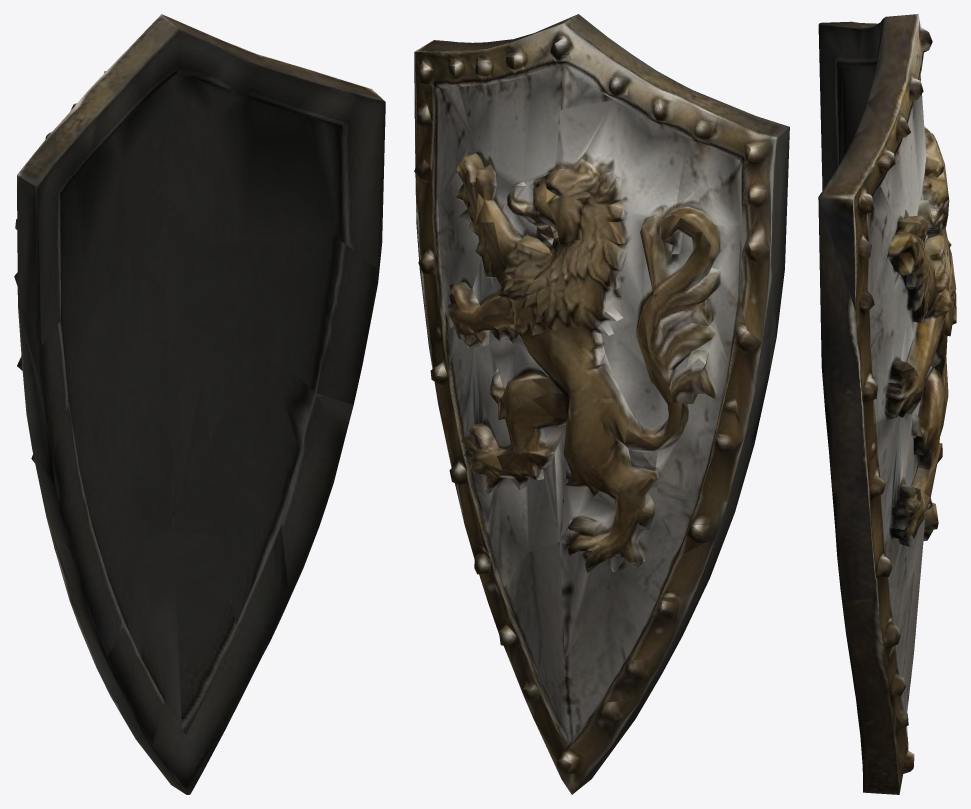
The model's file is kite_gold_lion.glb.
3 views of the same model, side by side, from view 1: azimuth 30°, elevation 25°; view 2: azimuth 150°, elevation 25°; view 3: azimuth 270°, elevation 25° (orthographic). The views are drawn at different scales.
Visible parts, largest first — view 1: kite_gold_lion; view 2: kite_gold_lion; view 3: kite_gold_lion.
Boxes of the visible parts, box(x1,y1,x2,y2) form: kite_gold_lion: box(14, 14, 385, 794); kite_gold_lion: box(414, 14, 789, 794); kite_gold_lion: box(818, 14, 956, 794).
Bounding box in the file's own units: 0.4001 × 0.8227 × 0.1319.
1 material, 1 textured.
